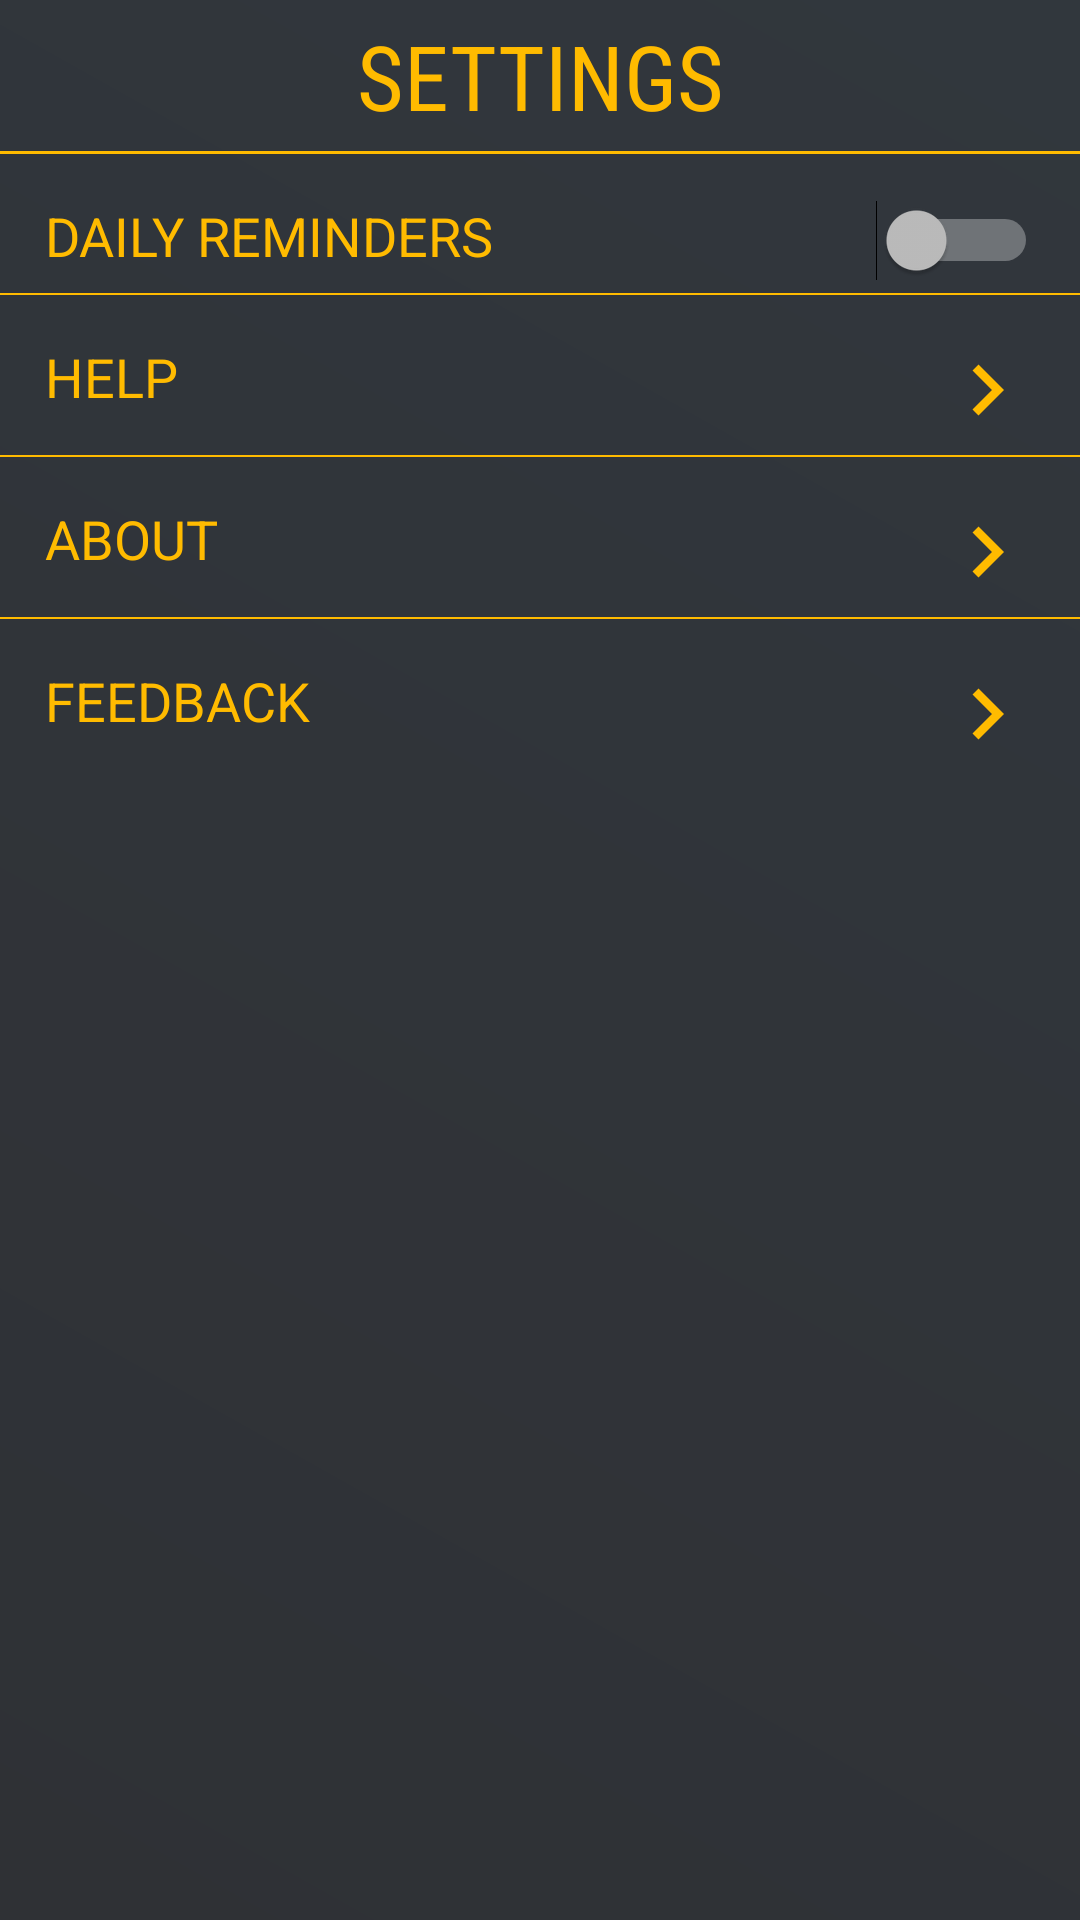

Icons on this 1080x1920 Android screen, each with the point to tap as point (x, y):
arrow: point (988, 390), point (988, 552), point (988, 714)
